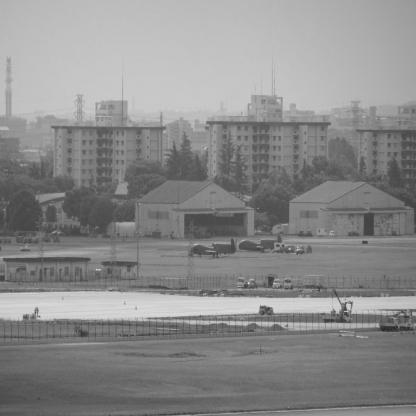RQ4: (191, 238, 239, 260), (239, 234, 284, 254)
